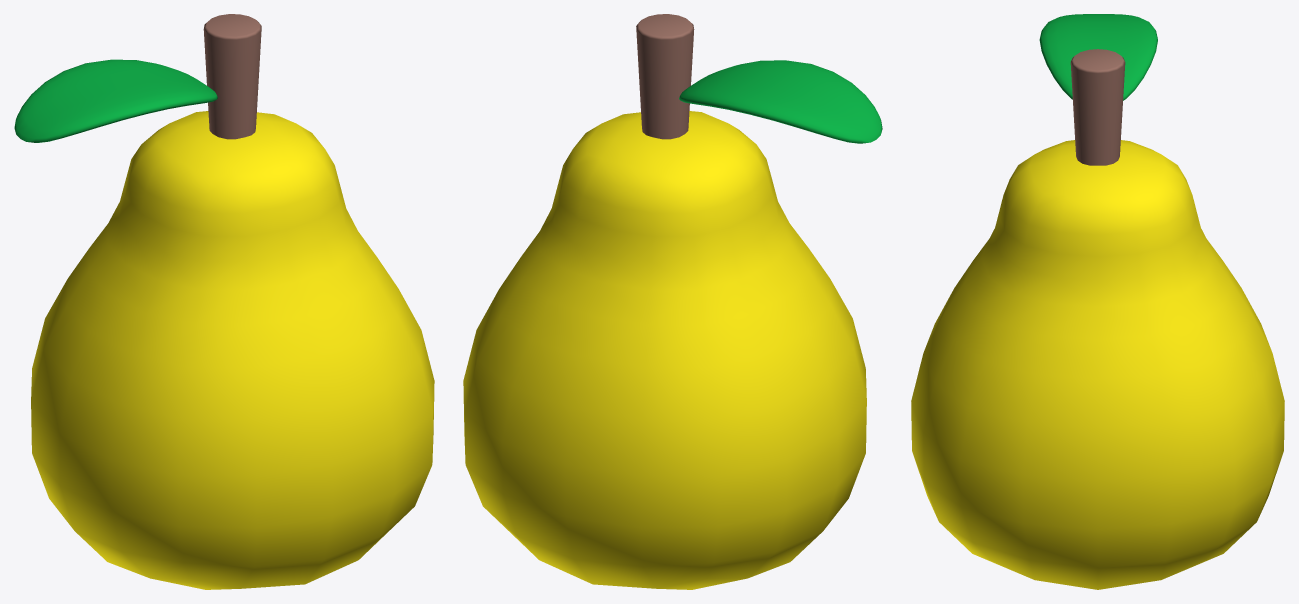
File: Farm_13_Pear_2.glb
3 views of the same model, side by side, from view 1: azimuth 30°, elevation 25°; view 2: azimuth 150°, elevation 25°; view 3: azimuth 270°, elevation 25° (orthographic). The views are drawn at different scales.
Visible parts, largest first — view 1: Farm_13_Pear_2; view 2: Farm_13_Pear_2; view 3: Farm_13_Pear_2.
Boxes of the visible parts, x1,y1,x2,y2 form: Farm_13_Pear_2: [14, 14, 434, 589]; Farm_13_Pear_2: [463, 14, 882, 589]; Farm_13_Pear_2: [911, 14, 1284, 589].
Bounding box in the file's own units: 0.2199 × 0.2936 × 0.1977.
Materials: 1 (1 with a texture image).
